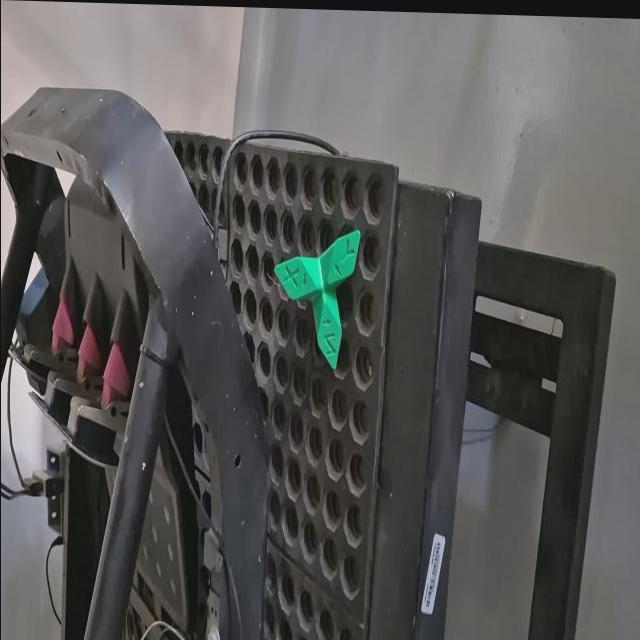eje: (272, 226, 360, 372)
